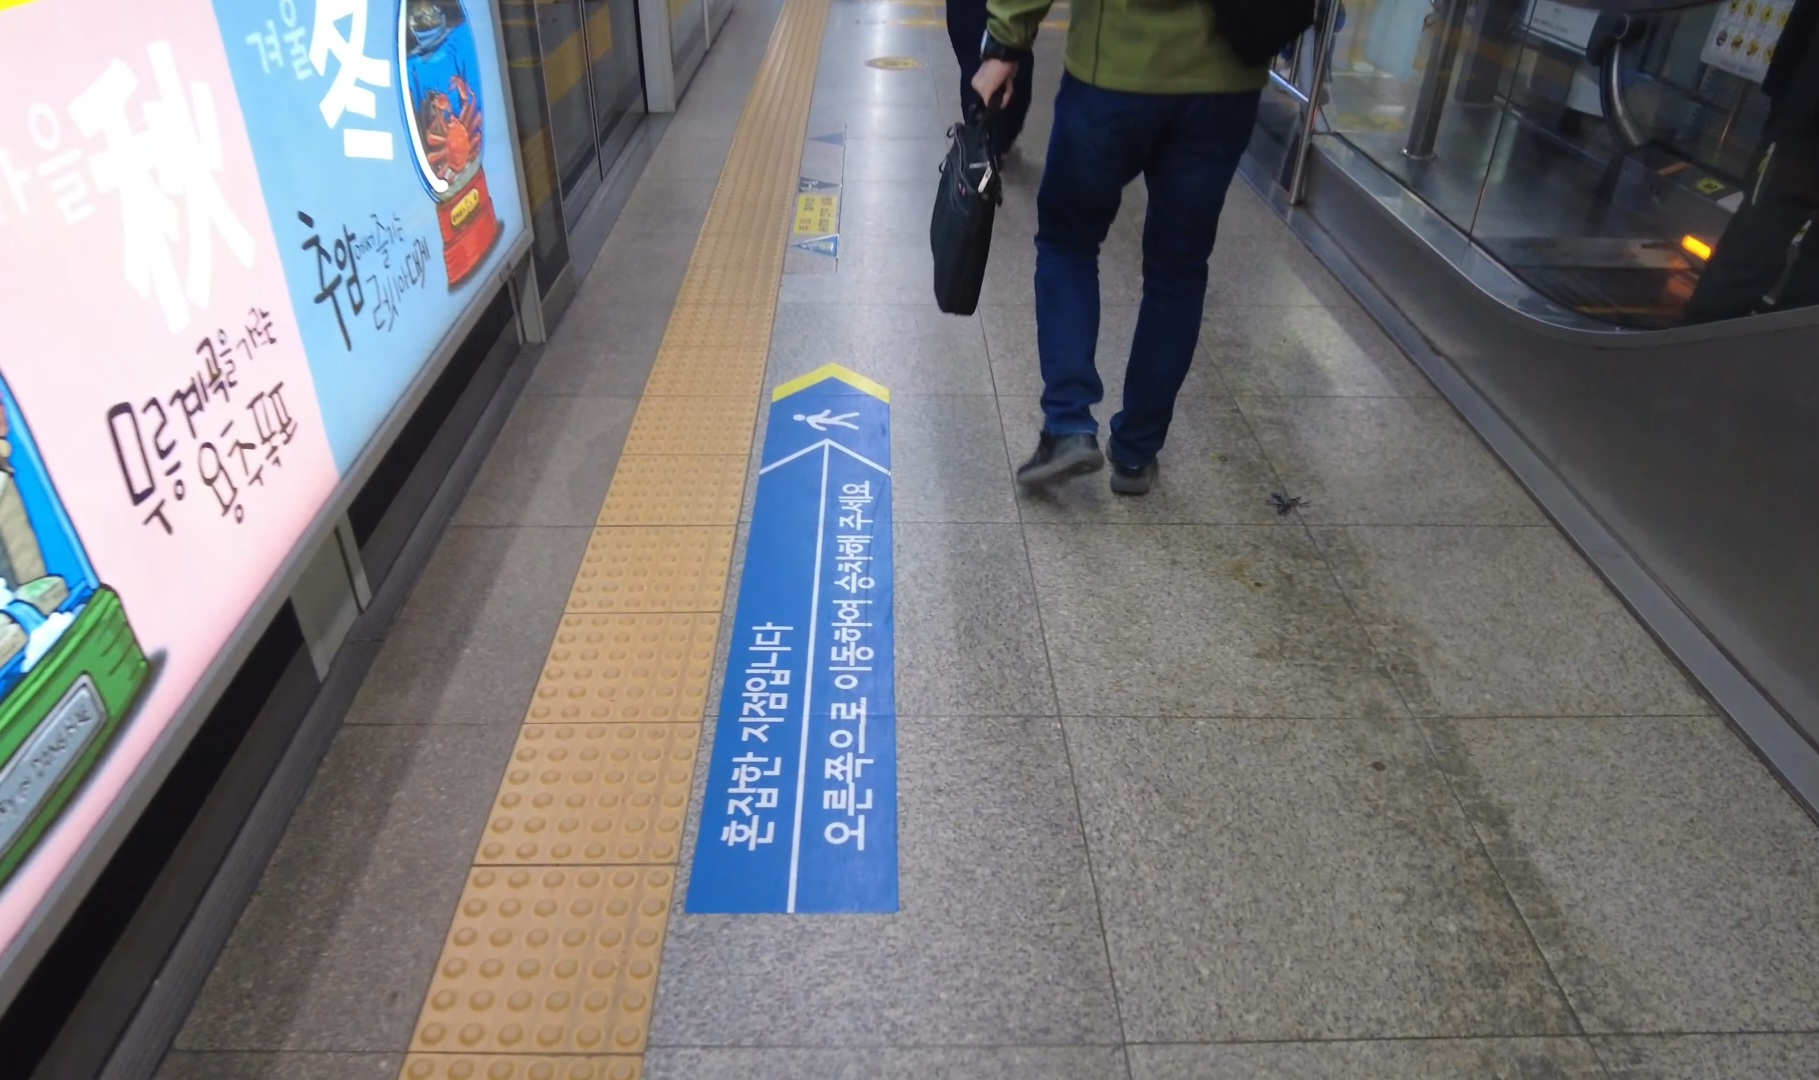warningBlock: (461, 872, 667, 1043), (518, 720, 685, 881), (569, 621, 710, 743), (594, 525, 728, 630), (614, 450, 749, 525), (645, 384, 762, 458), (666, 342, 774, 411), (672, 305, 776, 366)
